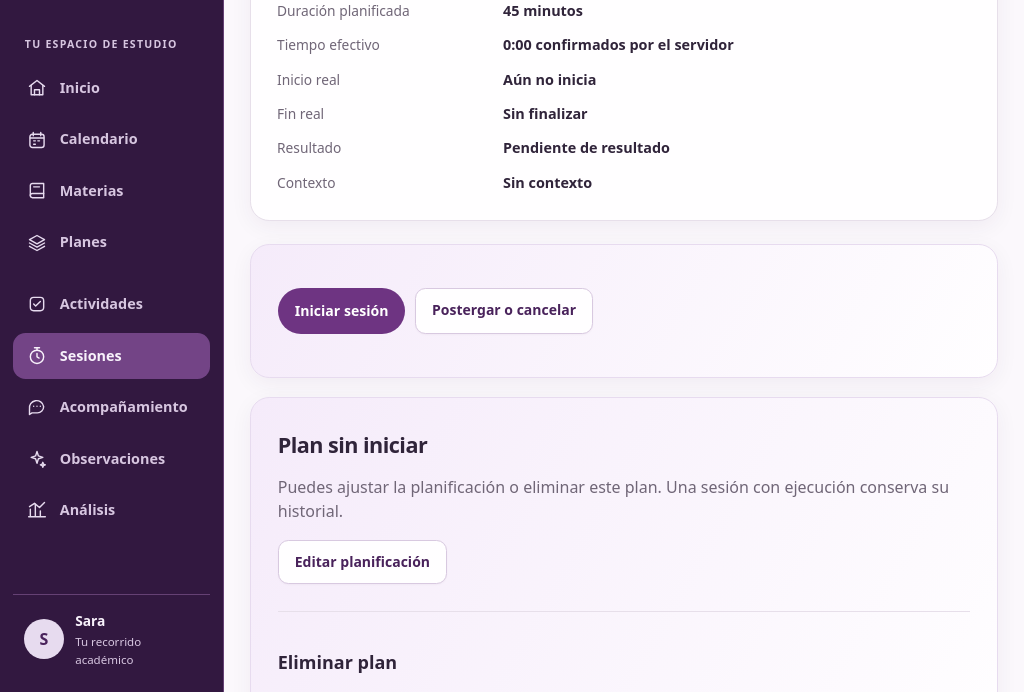
study session detail and timer lifecycle › supports closing a plan as cancelled without creating execution intervals
(page scrolled)
Click the button "Postergar o cancelar".
click(504, 311)  # box top-left (415, 288), bottom-right (593, 334)
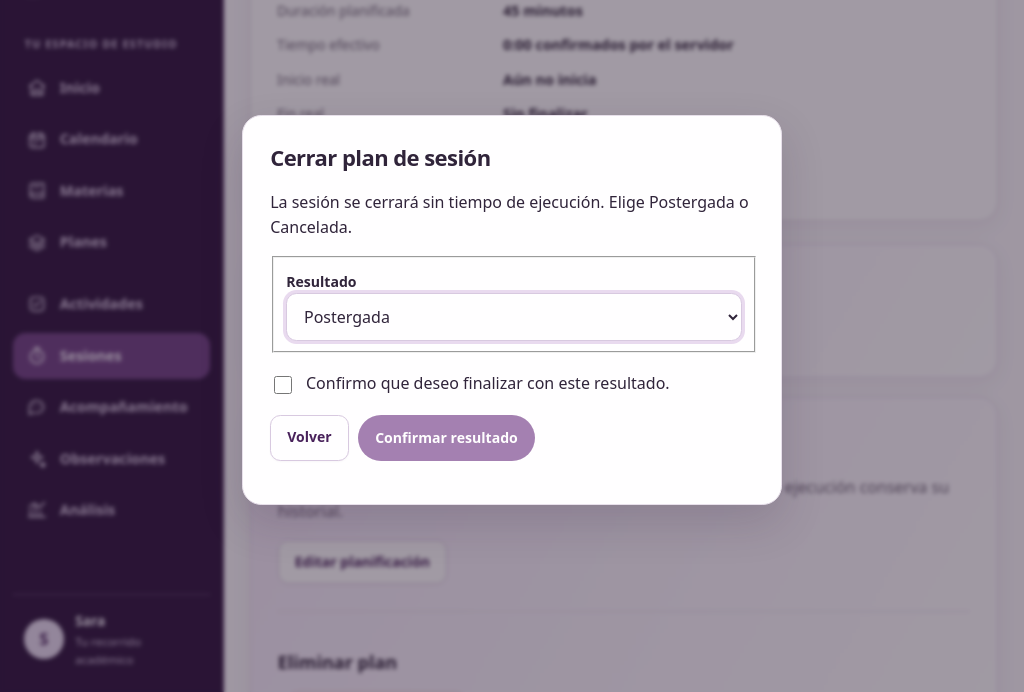
Select "Cancelada" in the dropdown labelled "Resultado" at (514, 317), box top-left (286, 293), bottom-right (742, 341)
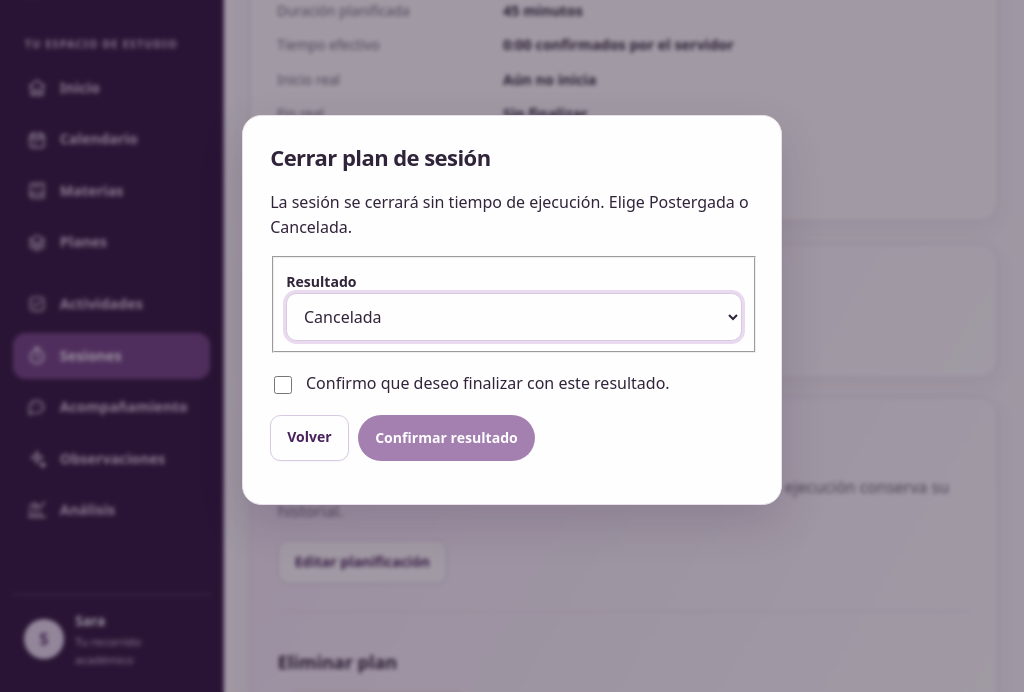
Click the checkbox labelled "Confirmo que deseo finalizar con este resultado.".
click(283, 385)  # box top-left (274, 376), bottom-right (292, 394)
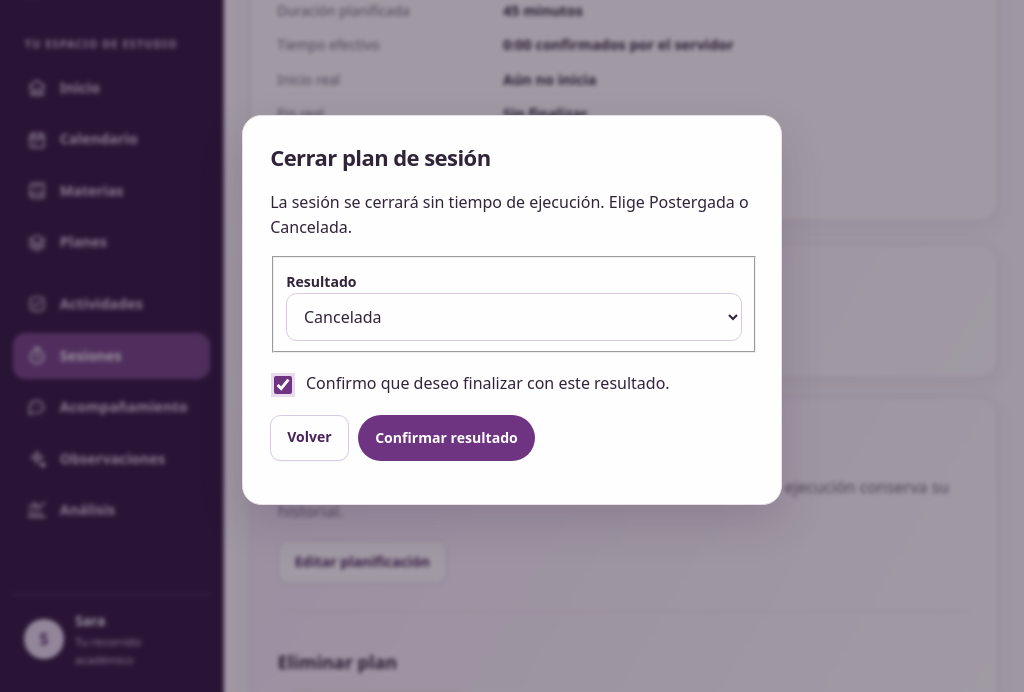
Click the button "Confirmar resultado".
click(446, 438)  # box top-left (358, 415), bottom-right (535, 461)
(page scrolled)
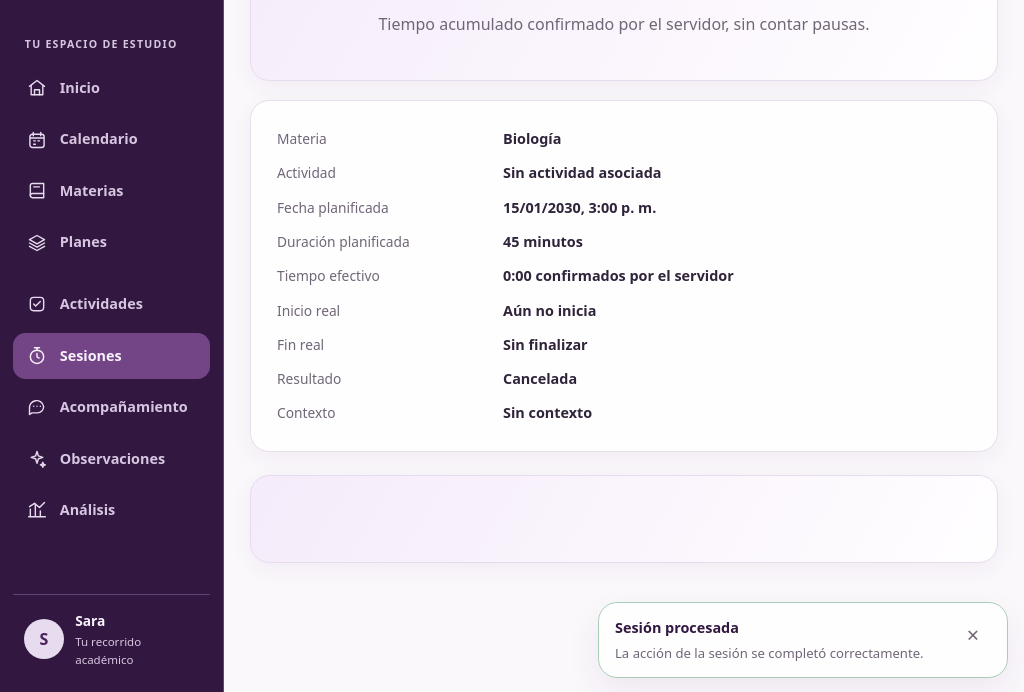
Check: the text "Aún no inicia" is shown, box top-left (503, 300), bottom-right (596, 320)
Check: the text "Cancelada" is shown, box top-left (503, 369), bottom-right (577, 388)
